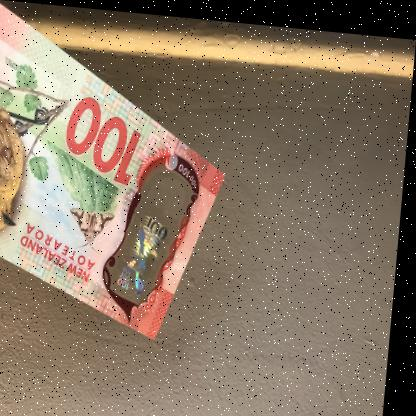100B: (120, 184, 177, 299)
